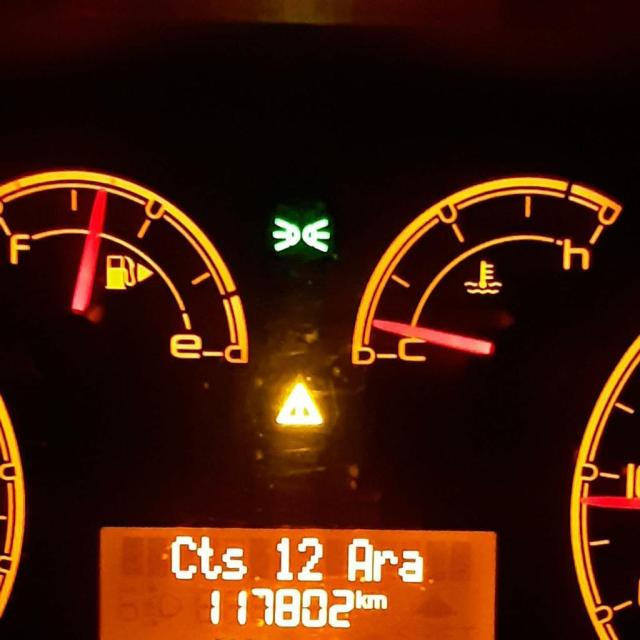odometer: (94, 517, 502, 638)
